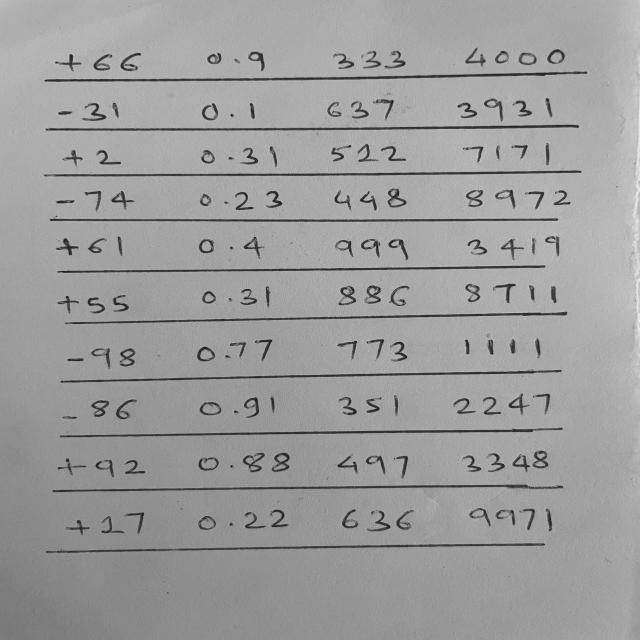Number: (439, 386, 567, 422), (43, 41, 162, 78), (177, 444, 302, 479), (188, 502, 298, 538), (330, 500, 430, 538), (49, 447, 152, 483), (54, 504, 154, 541), (449, 331, 556, 365), (455, 230, 568, 262), (446, 90, 558, 122), (54, 393, 150, 430), (180, 333, 283, 367), (454, 184, 574, 213), (457, 41, 571, 70), (185, 391, 290, 422), (452, 445, 557, 476), (452, 279, 563, 308), (189, 140, 289, 172), (315, 137, 413, 169), (460, 504, 558, 536), (323, 44, 424, 75), (48, 284, 140, 318), (187, 187, 298, 215), (328, 448, 418, 482), (322, 233, 417, 265), (45, 93, 134, 127), (453, 138, 557, 167), (307, 93, 409, 122), (186, 282, 284, 312), (323, 182, 415, 213), (329, 387, 408, 423), (63, 342, 146, 376), (329, 280, 416, 312), (195, 43, 278, 76), (49, 187, 146, 215), (46, 232, 136, 262), (185, 233, 273, 263), (324, 337, 415, 365), (189, 97, 269, 126), (52, 144, 128, 171)
